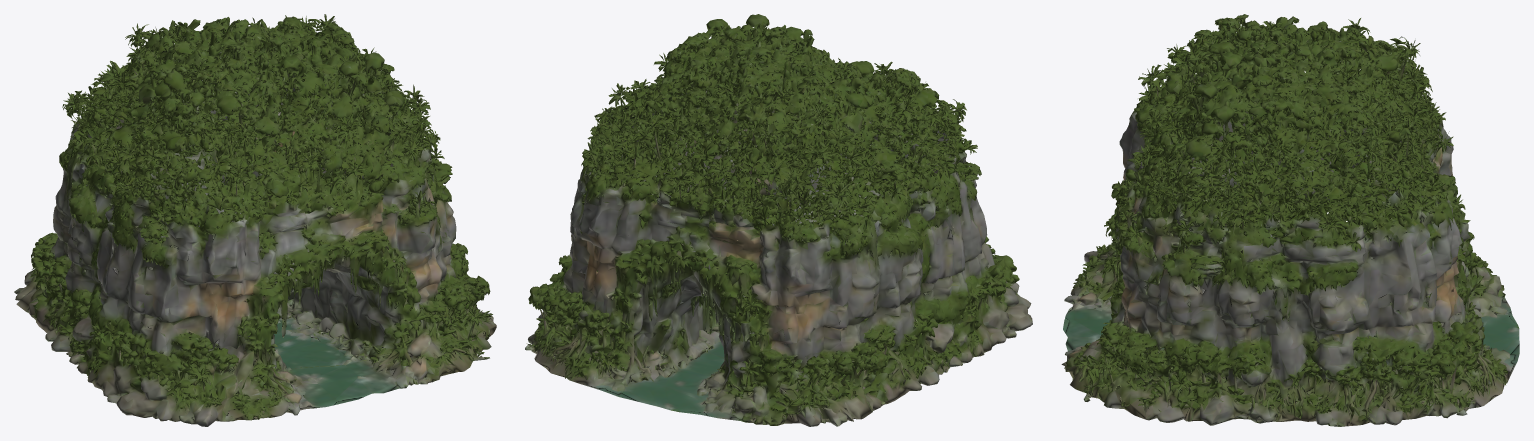
The model's file is av_rivercave.glb.
3 renders of one model, left to right at view 1: azimuth 30°, elevation 25°; view 2: azimuth 150°, elevation 25°; view 3: azimuth 270°, elevation 25°, orthographic. The views are drawn at different scales.
Visible parts, largest first — view 1: av_rivercave; view 2: av_rivercave; view 3: av_rivercave.
Part boxes in pixels (x1=…): av_rivercave: x1=14, y1=14, x2=496, y2=426; av_rivercave: x1=525, y1=14, x2=1032, y2=426; av_rivercave: x1=1061, y1=14, x2=1519, y2=426.
Size of the model in its own units: 1.88 by 1.36 by 1.9.
1 material, 1 textured.
